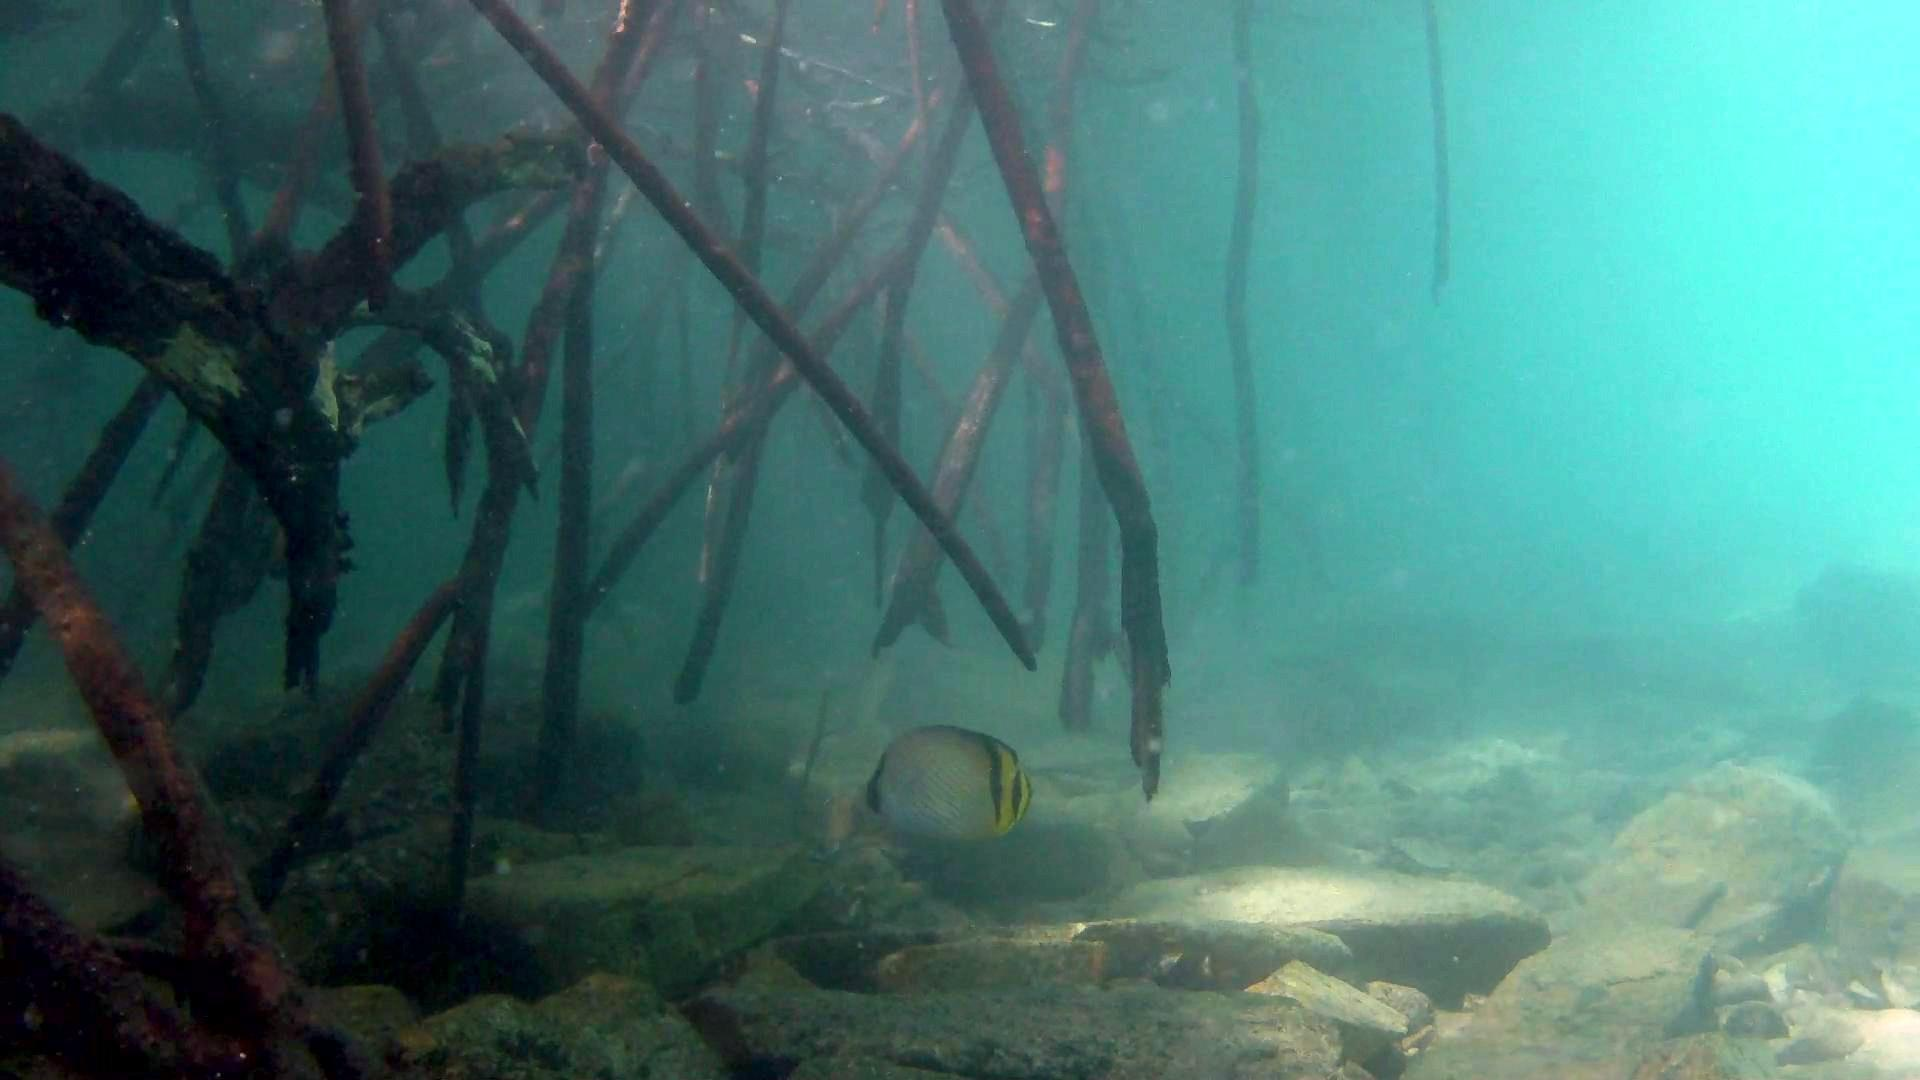chaetodon vagabundus: (849, 719, 1039, 847)
